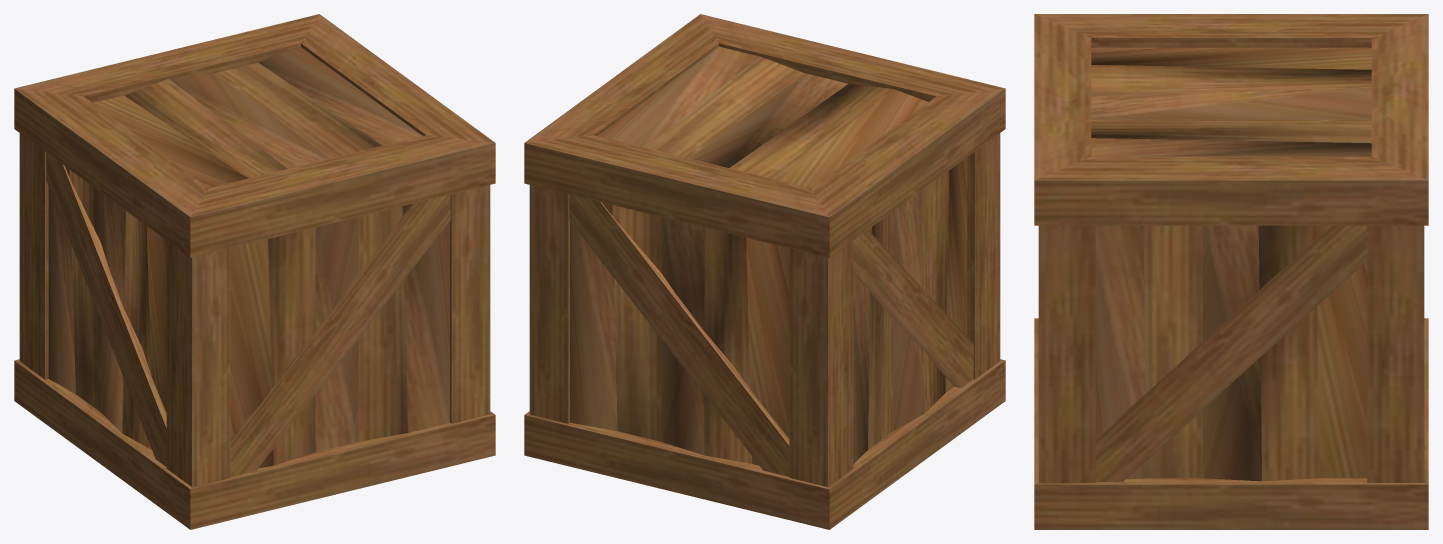
Rendered from Prop_Crate.medium.gltf.
3 views of the same model, side by side, from view 1: azimuth 30°, elevation 25°; view 2: azimuth 150°, elevation 25°; view 3: azimuth 270°, elevation 25° (orthographic). The views are drawn at different scales.
Visible parts, largest first — view 1: Prop_Crate; view 2: Prop_Crate; view 3: Prop_Crate.
Part boxes in pixels (box(x1,y1,x2,y2)): Prop_Crate: box(14, 14, 495, 529); Prop_Crate: box(524, 14, 1005, 529); Prop_Crate: box(1034, 14, 1428, 529).
Bounding box in the file's own units: 1.08 × 1.06 × 1.08.
1 material, 1 textured.
